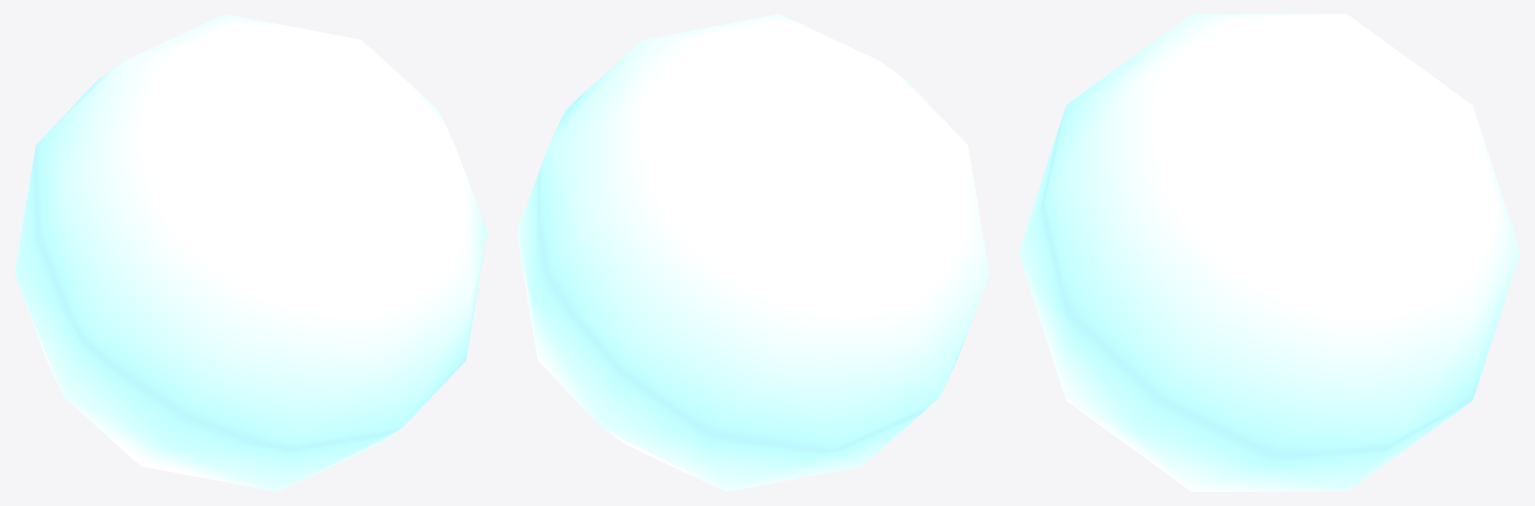
File: health_orb.gltf
3 views of the same model, side by side, from view 1: azimuth 30°, elevation 25°; view 2: azimuth 150°, elevation 25°; view 3: azimuth 270°, elevation 25° (orthographic). The views are drawn at different scales.
Parts seen in each view (by area): view 1: health_orb; view 2: health_orb; view 3: health_orb.
Part boxes in pixels (bbox=[...]): health_orb: bbox=[14, 14, 487, 491]; health_orb: bbox=[516, 14, 989, 491]; health_orb: bbox=[1018, 14, 1520, 491].
Bounding box in the file's own units: 0.2473 × 0.26 × 0.26.
